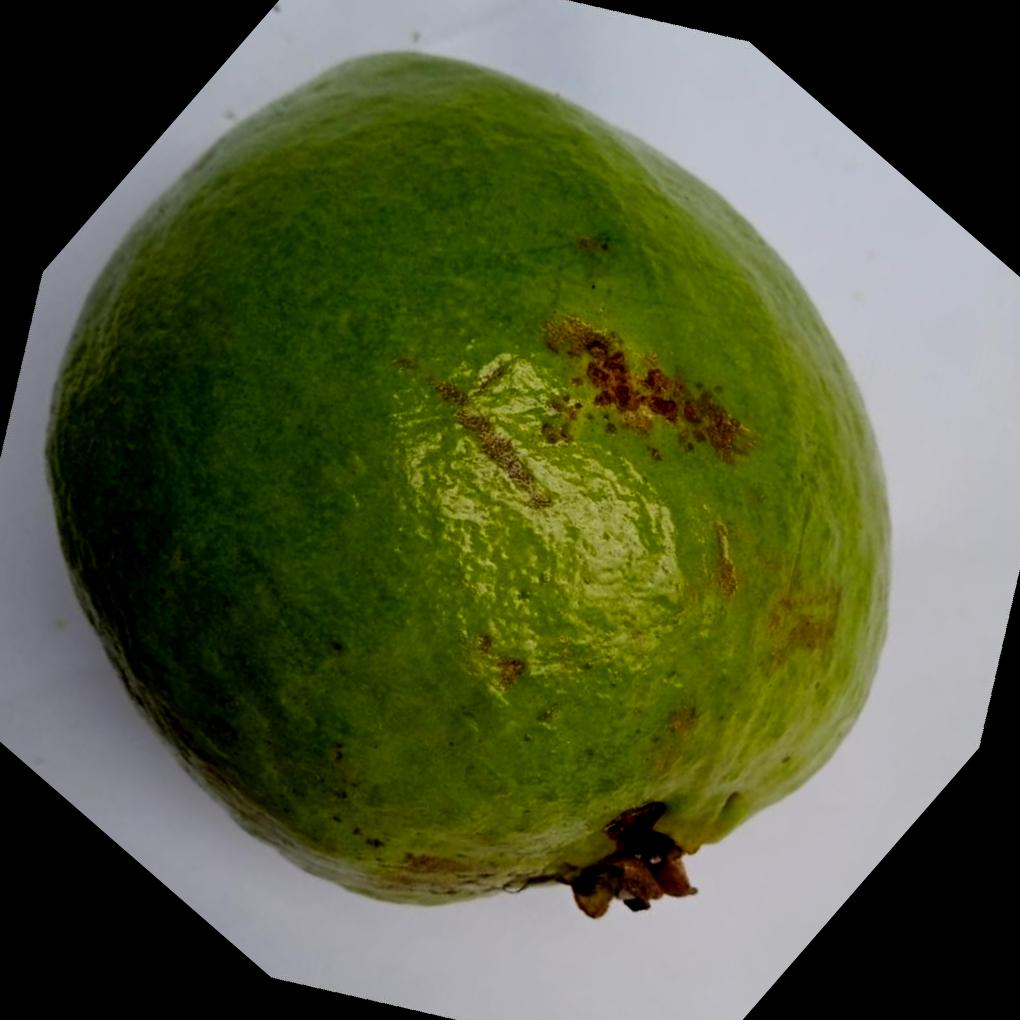FreshGuava: (39, 46, 891, 919)
